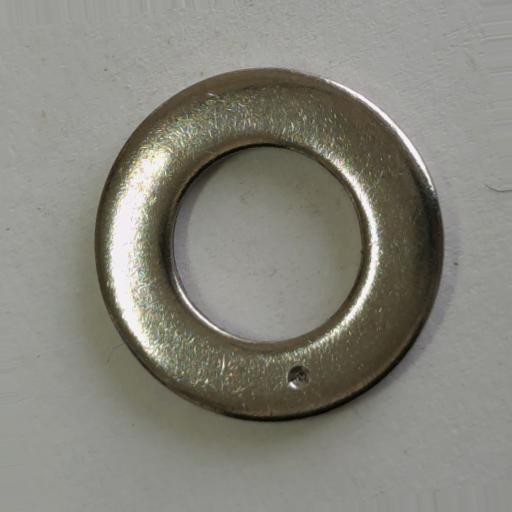circular_cavity: (286, 364, 311, 388)
